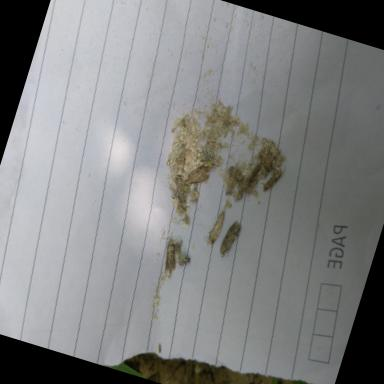pbw: (150, 232, 184, 281), (202, 200, 228, 248), (217, 218, 242, 260), (256, 160, 286, 195), (184, 162, 211, 190), (168, 174, 192, 204), (170, 144, 191, 178), (252, 146, 278, 172), (166, 195, 187, 221), (243, 160, 261, 190), (225, 164, 248, 186)
